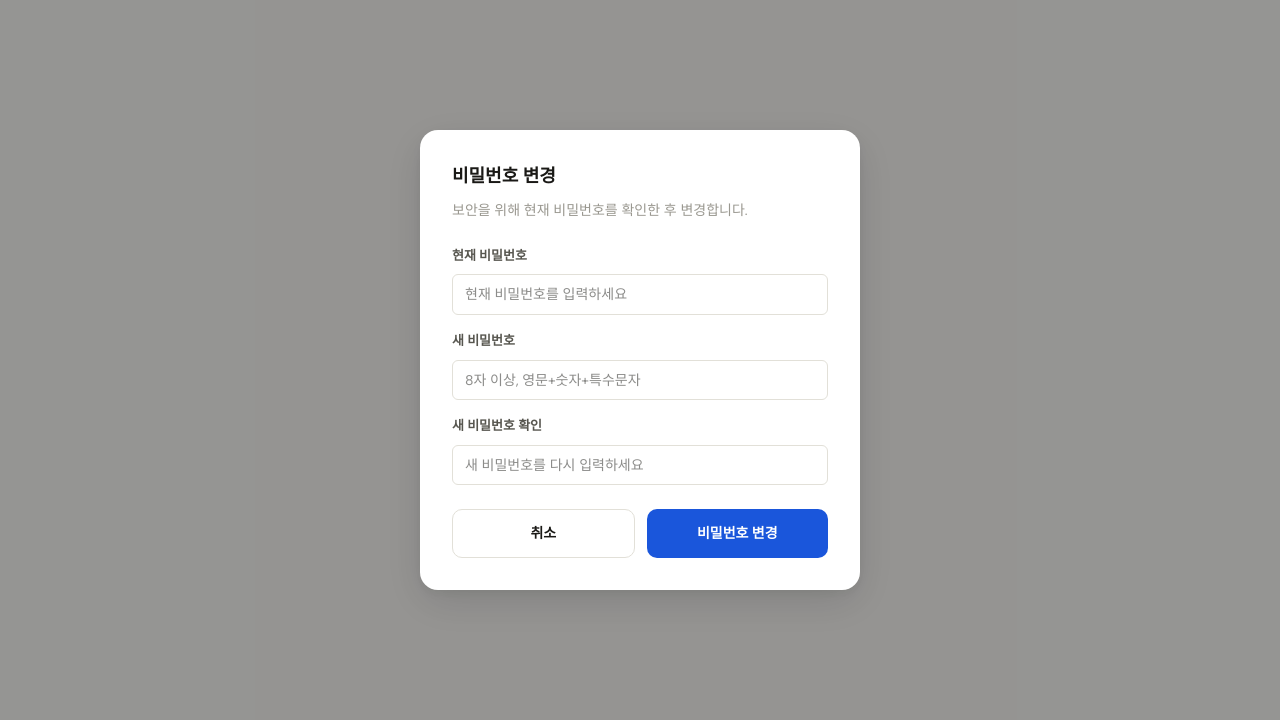
it: PasswordChangeModal › ACCOUNT_LOCKED 에러 시 경고 알림이 표시된다
Type "OldPass123!" into the password field labelled "현재 비밀번호". click: {"x": 640, "y": 295}
box: [452,274,828,315]
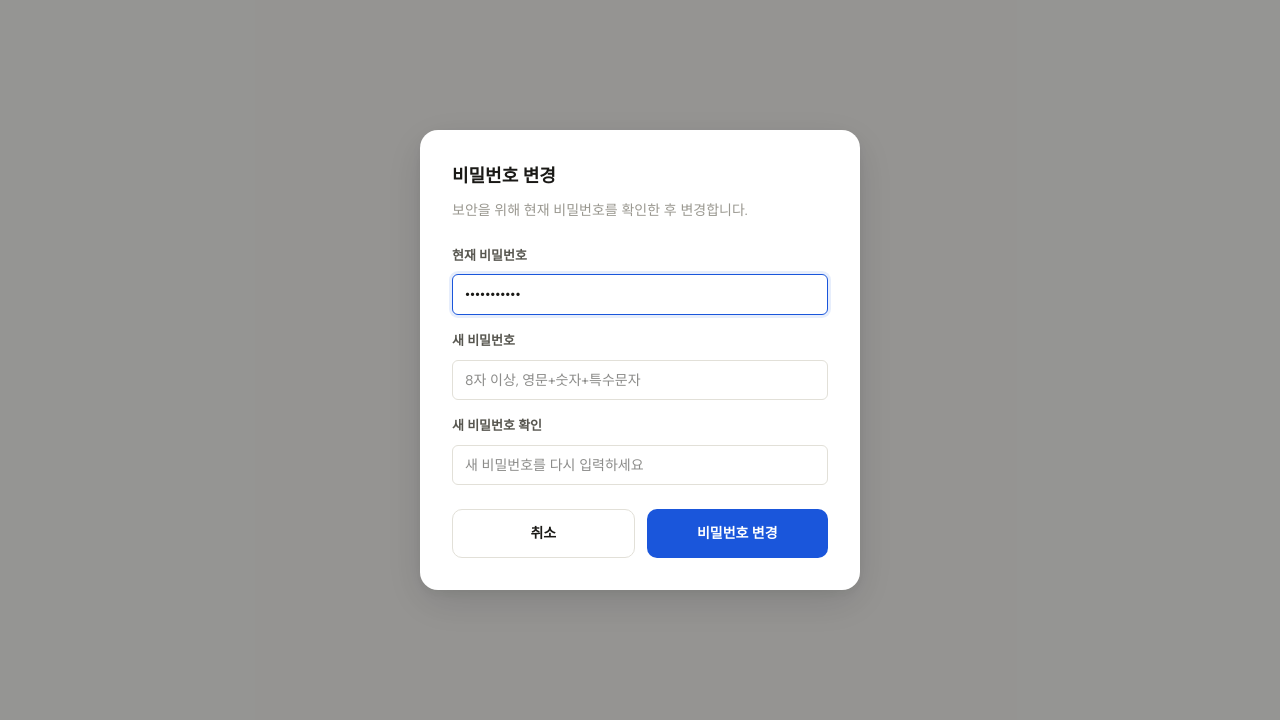
Type "NewPass123!" into the password field labelled "새 비밀번호". click: {"x": 640, "y": 380}
box: [452,360,828,400]
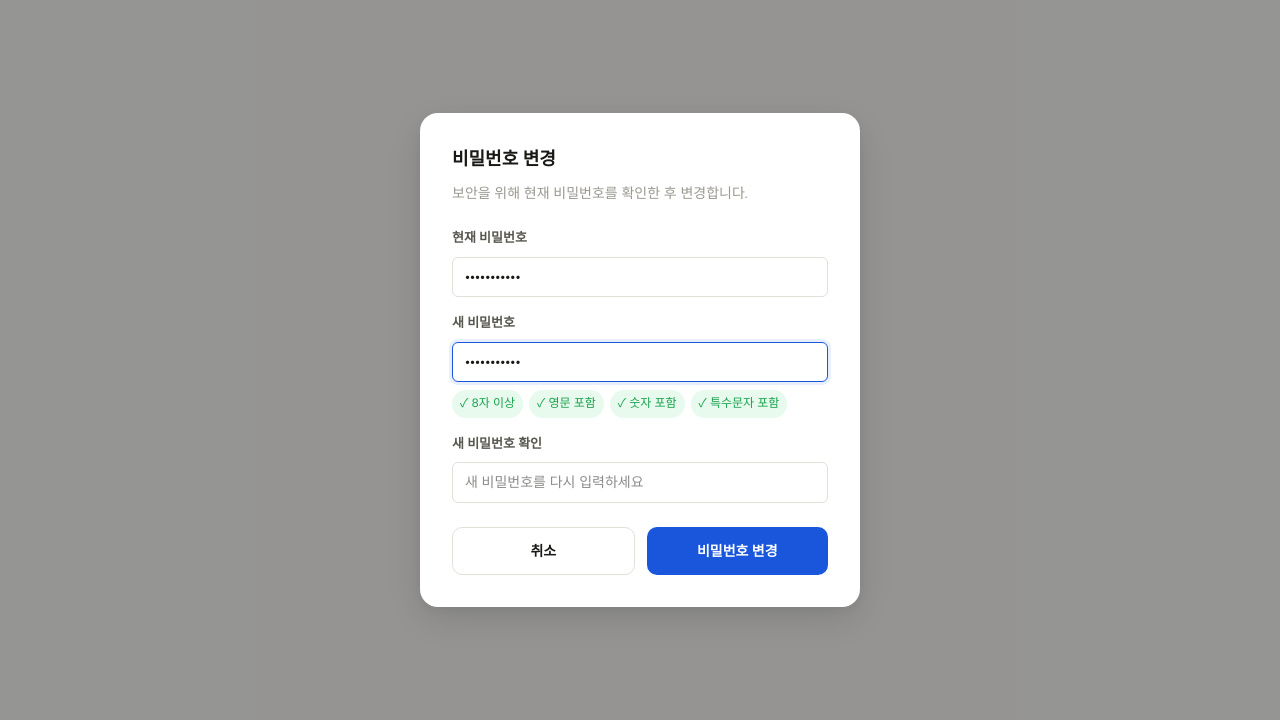
Type "NewPass123!" into the password field labelled "새 비밀번호 확인". click: {"x": 640, "y": 483}
box: [452,462,828,503]
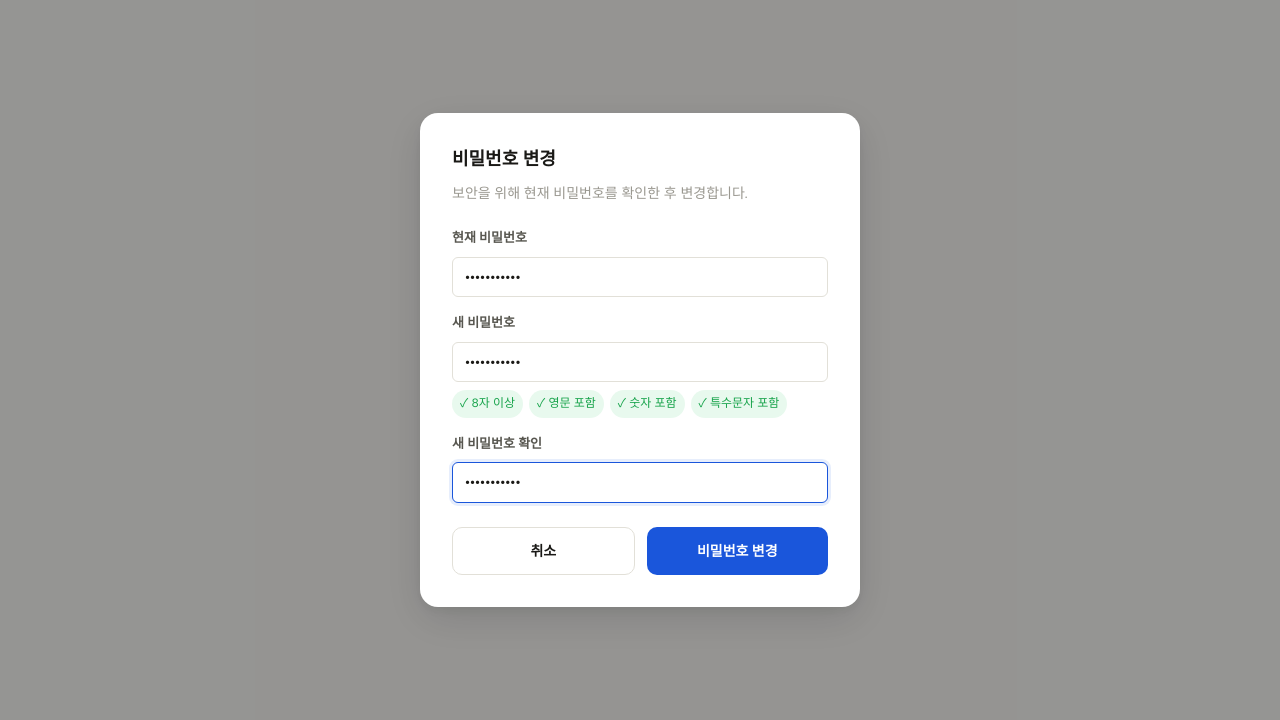
Click the button "비밀번호 변경". click: {"x": 737, "y": 551}
box: [646,527,828,575]
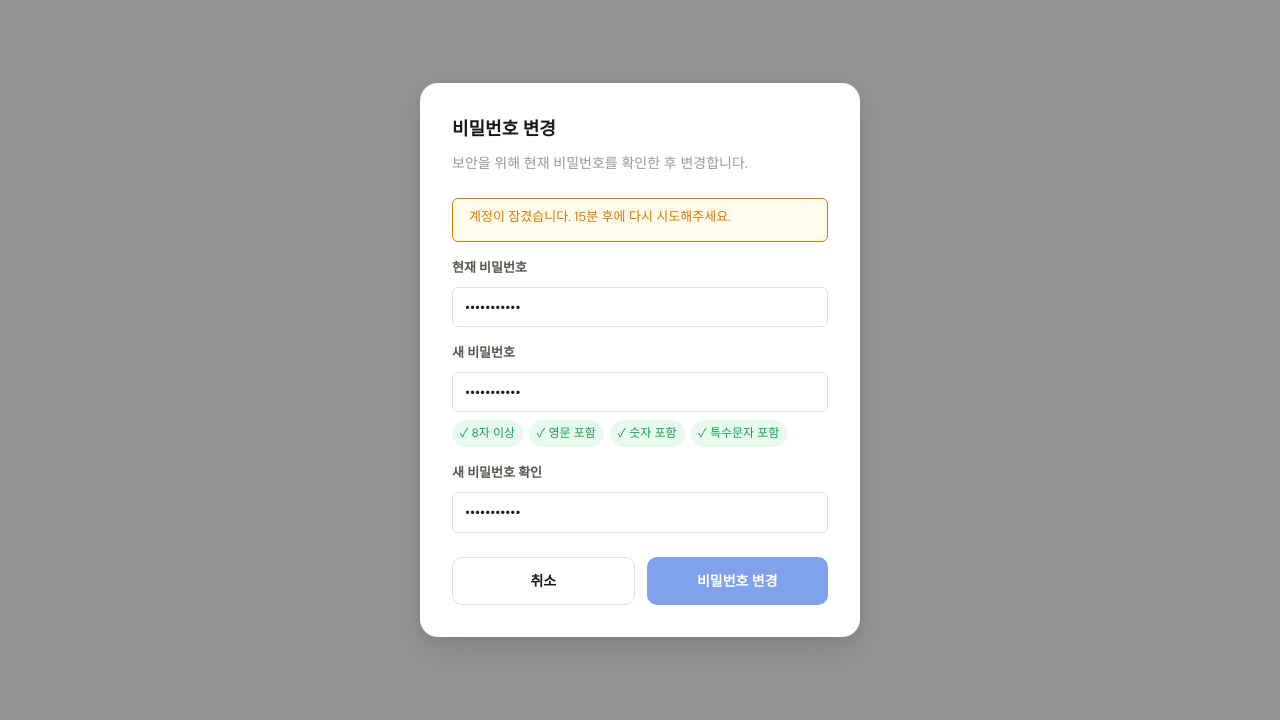
Expected: the message "계정이 잠겼습니다. 15분 후에 다시 시도해주세요." is shown, [452,198,828,242]
